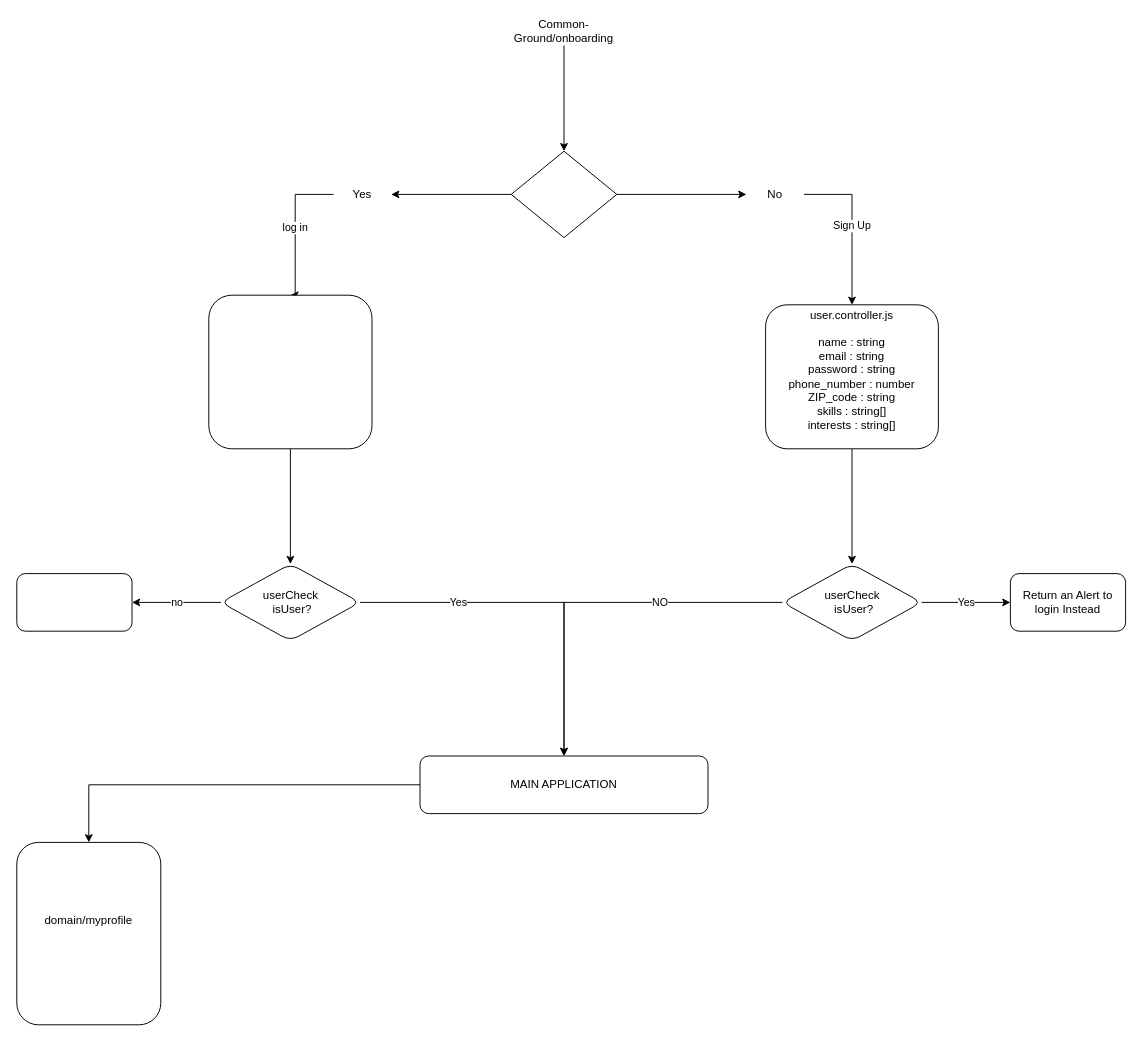
Image size: 1142x1042. Some labels were removed from this diagram. The centre of each missing label's shape, as x and y in pixels:
"Alert to return to the signup Page" goes at point (74, 602).
"Already an user?" goes at point (563, 194).
"user.controller.js username : string password : string" goes at point (290, 371).
